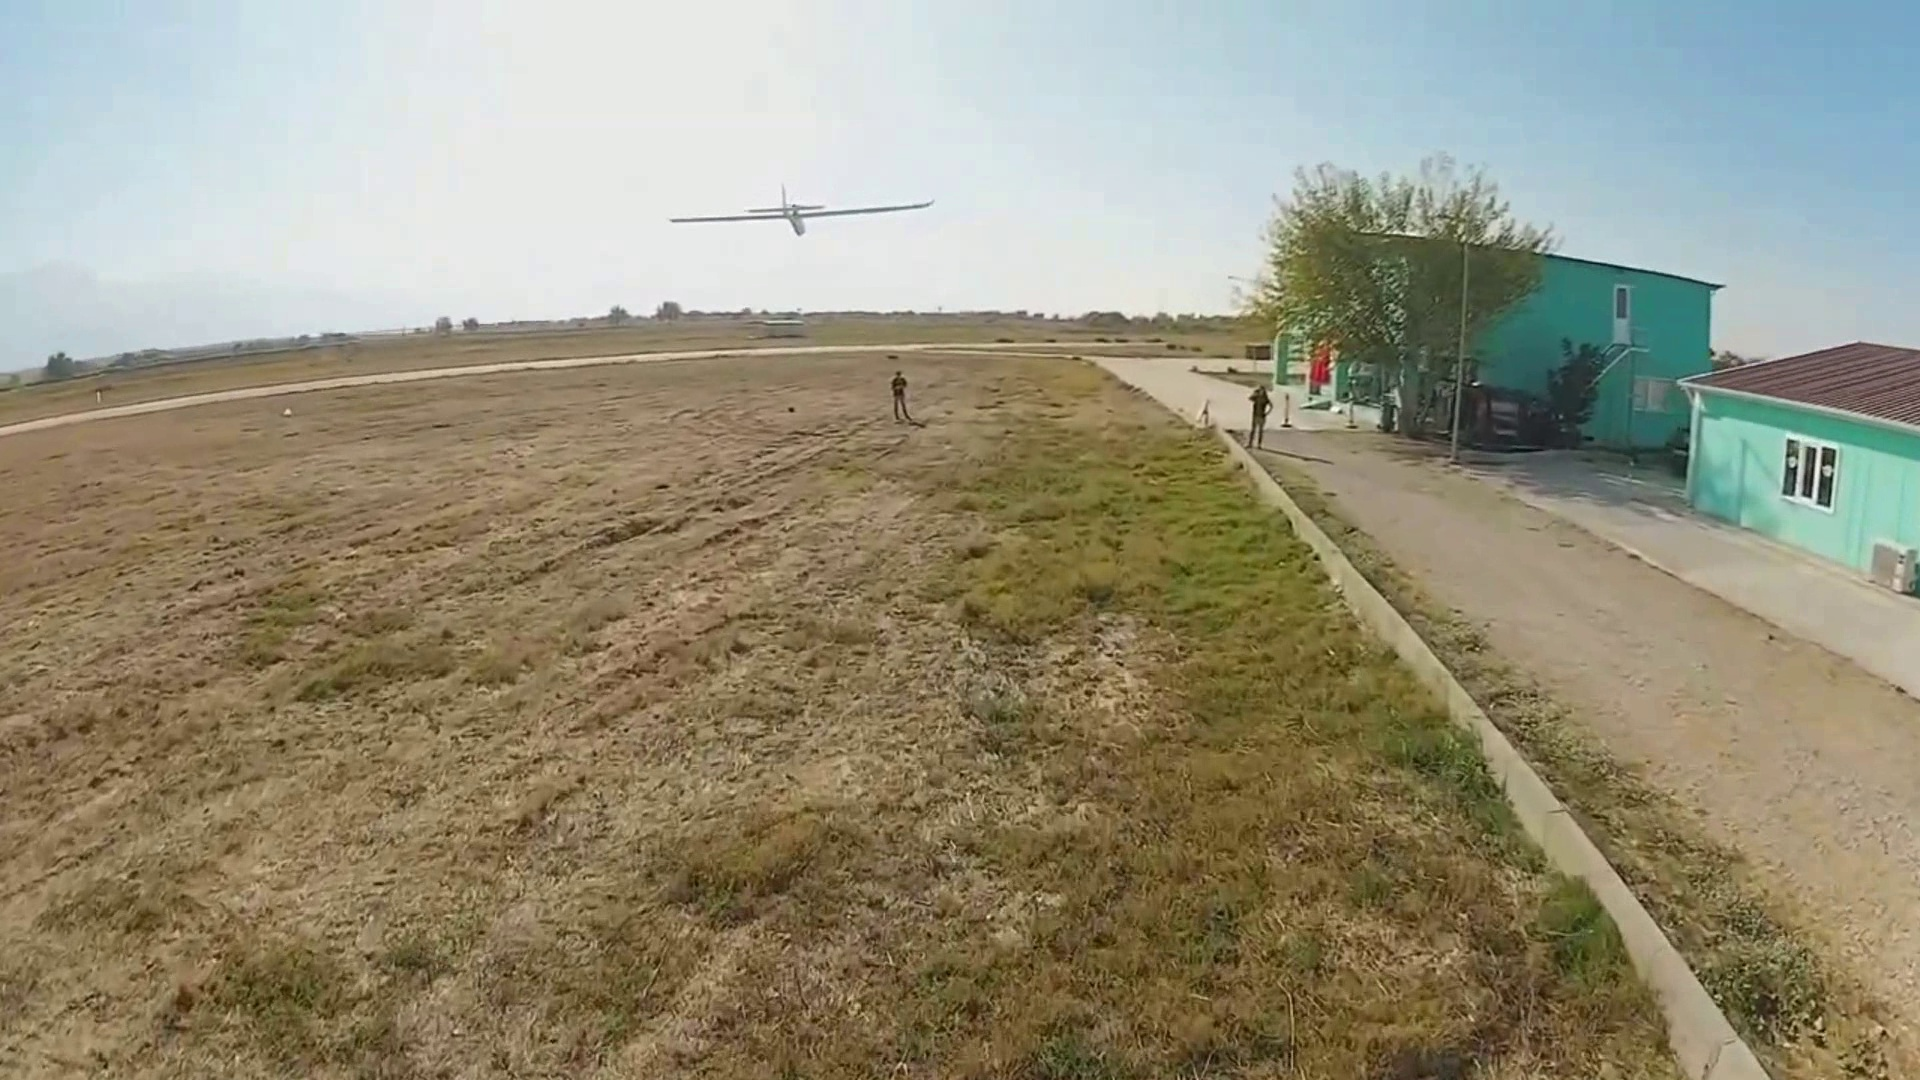airplane: (669, 185, 932, 233)
